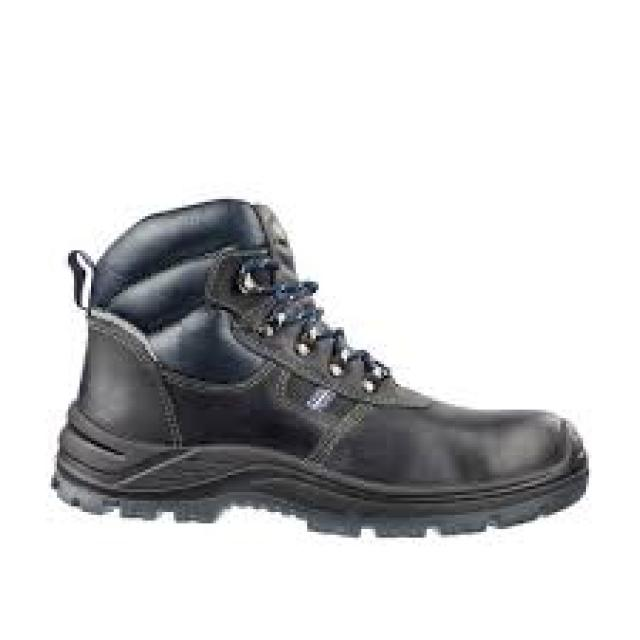shoes: (54, 200, 588, 534)
